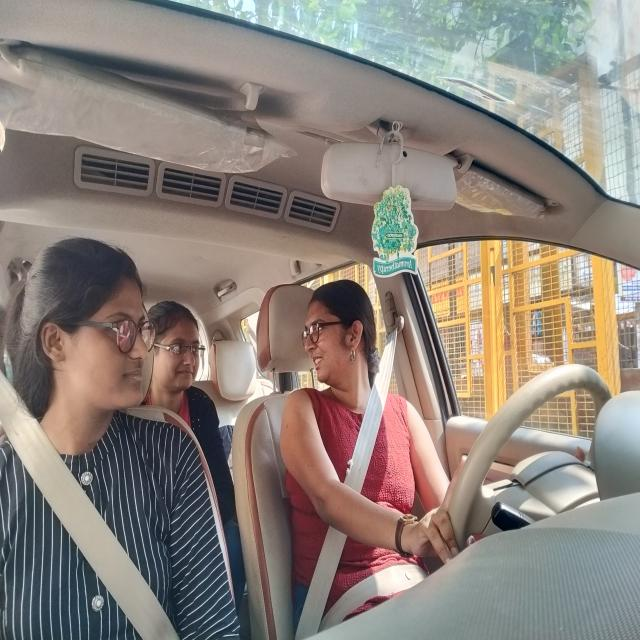LeftRight: (296, 285, 378, 392)
person: (46, 236, 158, 422), (151, 290, 210, 400)
talking: (305, 355, 327, 374)
